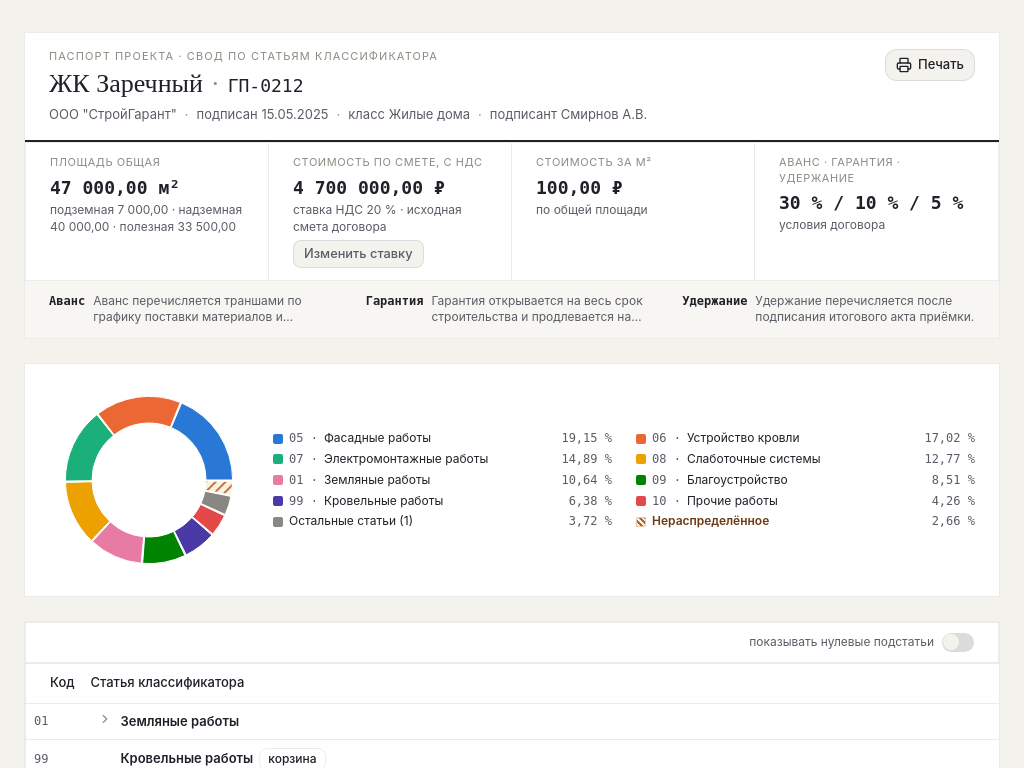
Test: Паспорт проекта: таблица по статьям › раскрытие показывает подстатьи
Expected: the text "ГП-0212" is shown, left=228, top=75, right=304, bottom=96
Step 1. Click the button named "Развернуть статью 01" → point(106, 718), box left=98, top=712, right=112, bottom=726
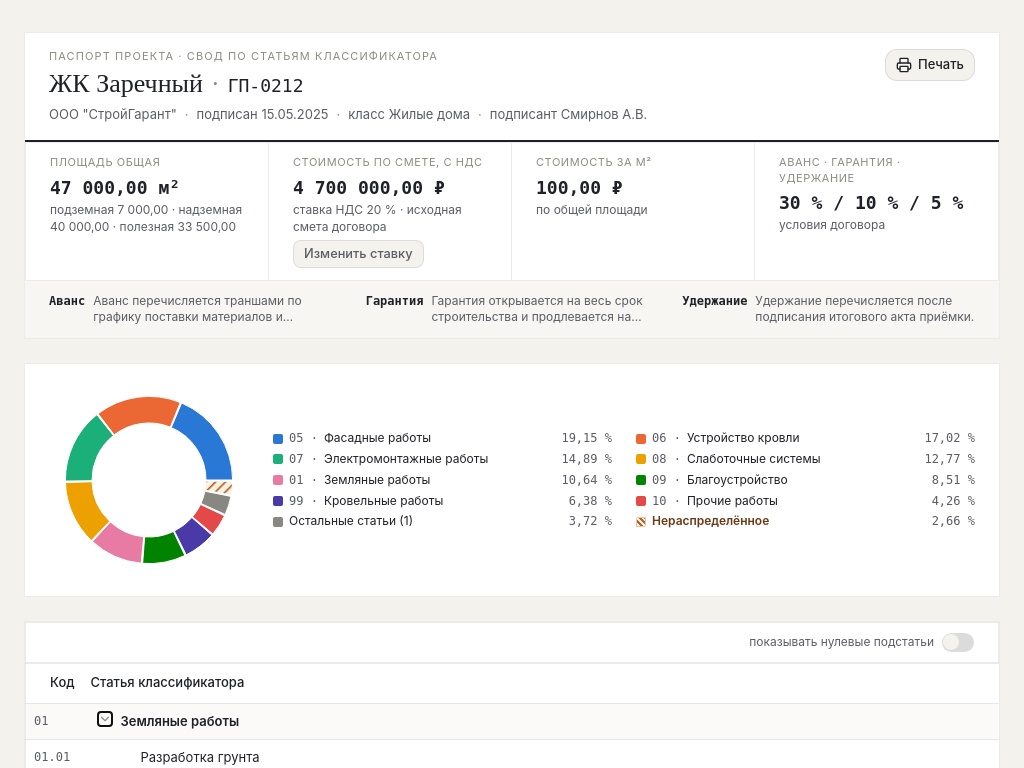
Now the text "Разработка грунта" is shown, box left=140, top=748, right=260, bottom=767
